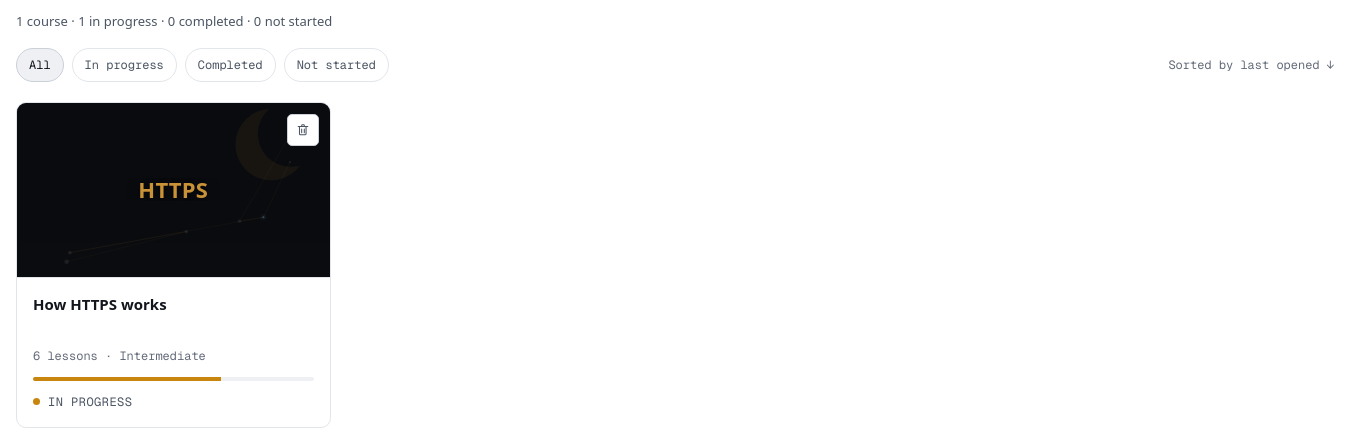
Test: CourseLibrary › shows a designed notice when a filter matches nothing
This screenshot has width=1351, height=445.
Expected: the link "HTTPS How HTTPS works 6 lessons · Intermediate IN PROGRESS" is shown, [16,102,330,428]
Click the button "Completed" at (230, 64), box [185,48,276,82]
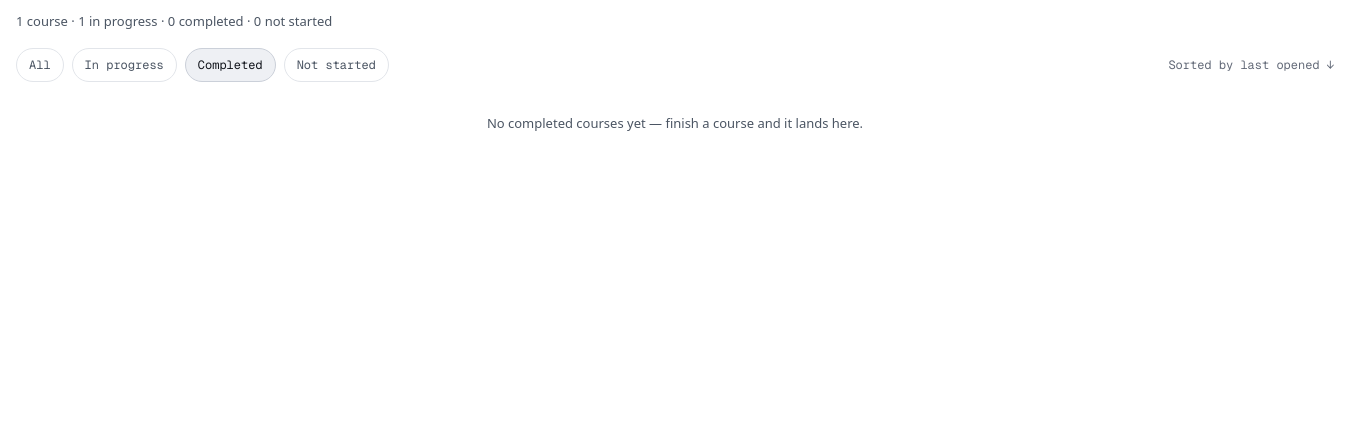
Result: the text "No completed courses yet" is shown at [487,114,863,132]
Click the button "All" at (40, 64), box [16,48,64,82]
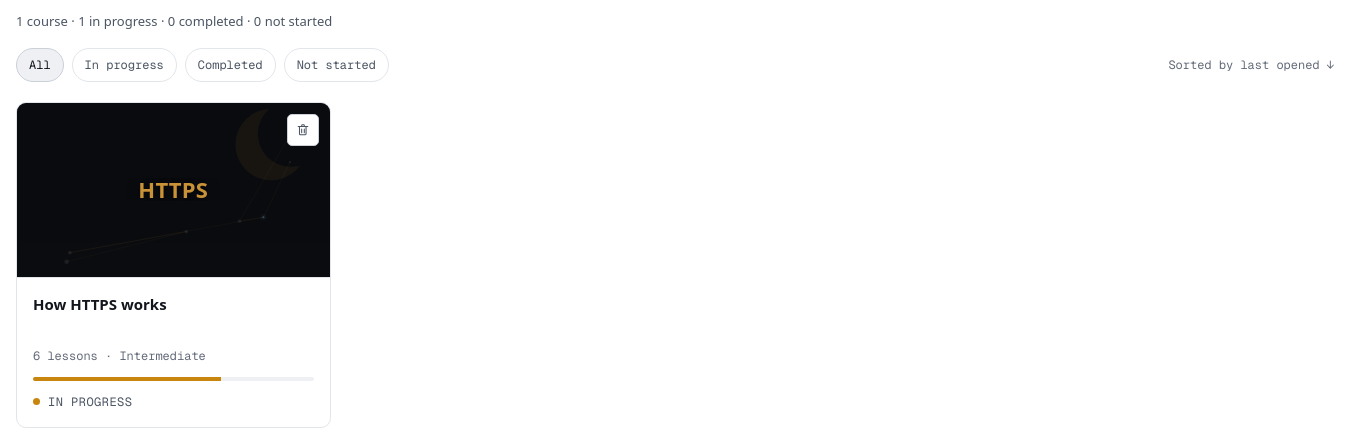
Result: the link "HTTPS How HTTPS works 6 lessons · Intermediate IN PROGRESS" is shown at [16,102,330,428]
